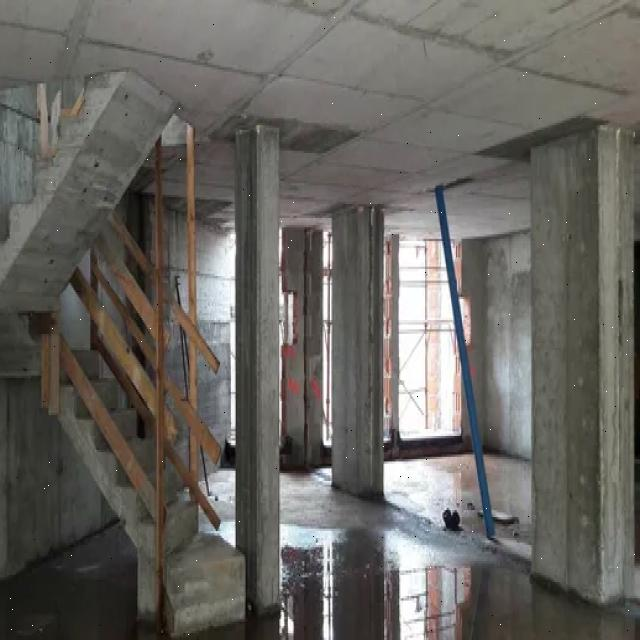Interior Finishing and Carpentry: (0, 35, 625, 640)
